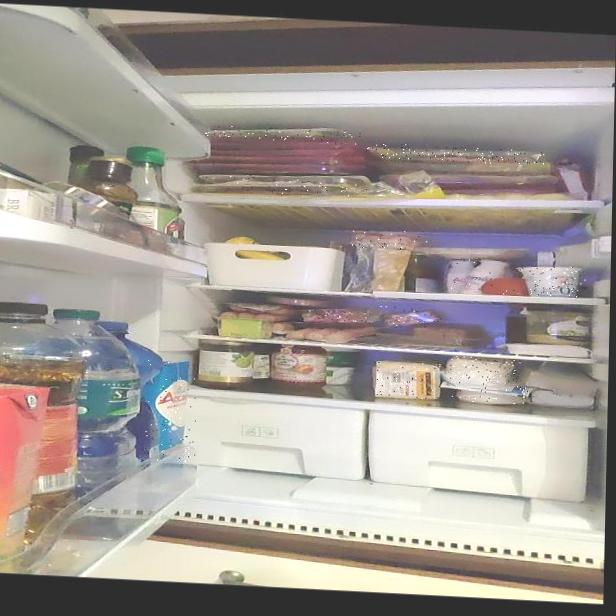bacon: (344, 228, 427, 252), (379, 306, 446, 328), (304, 308, 372, 324)
cheese: (374, 360, 441, 400), (449, 356, 521, 393), (451, 379, 532, 405)
ham: (366, 142, 545, 166), (190, 176, 350, 197), (197, 173, 372, 192), (206, 125, 362, 145)
milk: (145, 359, 198, 470)
tomatoes: (480, 276, 529, 297)
yoghurt: (445, 258, 510, 296), (519, 265, 587, 298)
